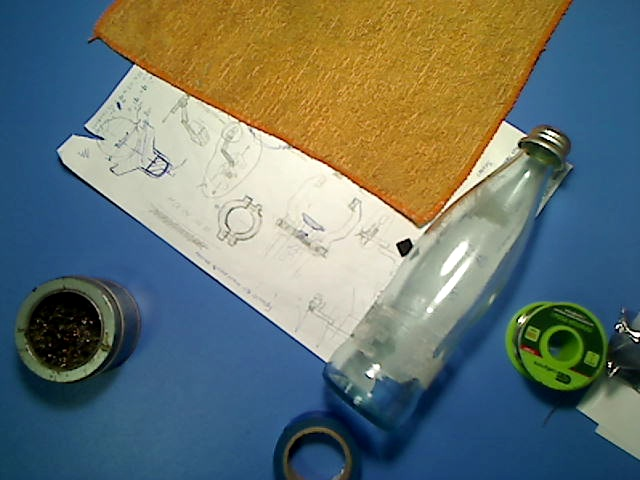bottle: (321, 122, 571, 434)
